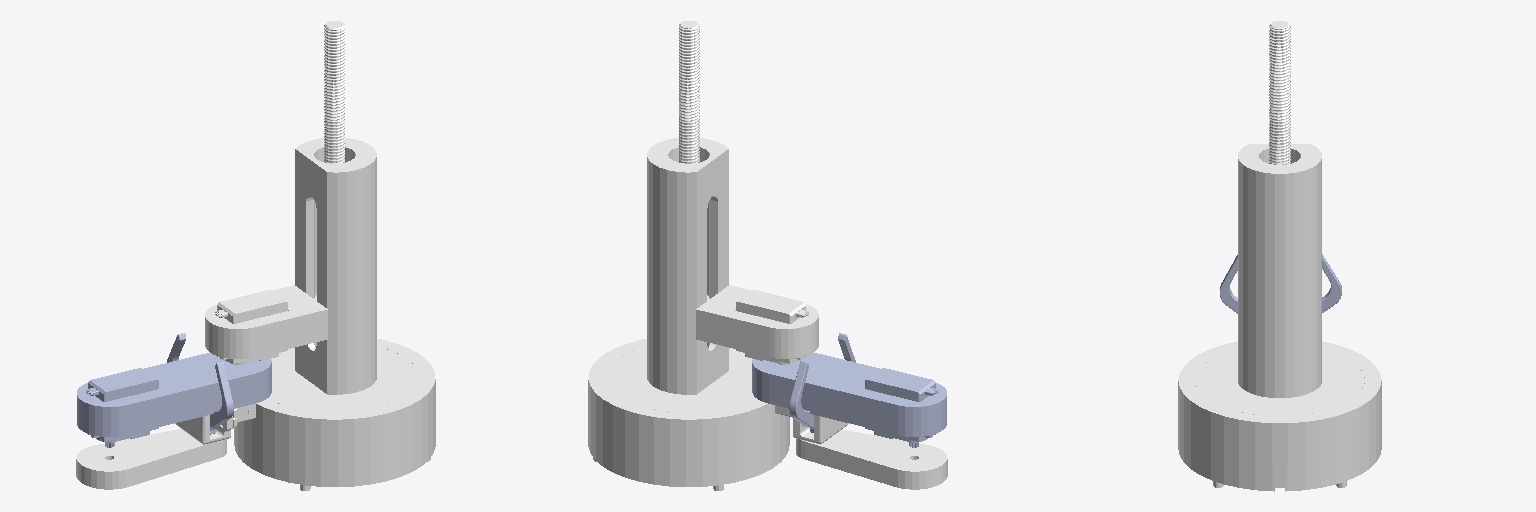
URDF robot description (grip):
<?xml version="1.0" encoding="utf-8"?>
<!-- This URDF was automatically created by SolidWorks to URDF Exporter! Originally created by [author] ([email redacted]) 
     Commit Version: 1.5.1-0-g916b5db  Build Version: 1.5.7152.31018
     For more information, please see http://wiki.ros.org/sw_urdf_exporter -->
<robot
  name="grip">
  <link
    name="base_link">
    <inertial>
      <origin
        xyz="0.0107174530796277 1.95900196880533E-09 -0.169890084160151"
        rpy="0 0 0" />
      <mass
        value="2.6392864047783" />
      <inertia
        ixx="0.00371625858177088"
        ixy="-2.40832532570739E-11"
        ixz="-3.25777157211034E-06"
        iyy="0.00370038361825484"
        iyz="-3.3397211323989E-10"
        izz="0.0057958129260762" />
    </inertial>
    <visual>
      <origin
        xyz="0 0 0"
        rpy="0 0 0" />
      <geometry>
        <mesh
          filename="package://grip/meshes/base_link.STL" />
      </geometry>
      <material
        name="">
        <color
          rgba="1 1 1 1" />
      </material>
    </visual>
    <collision>
      <origin
        xyz="0 0 0"
        rpy="0 0 0" />
      <geometry>
        <mesh
          filename="package://grip/meshes/base_link.STL" />
      </geometry>
    </collision>
  </link>
  <link
    name="prismatic_link">
    <inertial>
      <origin
        xyz="-0.0114707522711014 0.00448618201906996 0.0466874819287977"
        rpy="0 0 0" />
      <mass
        value="0.070294666005926" />
      <inertia
        ixx="2.41872603339289E-05"
        ixy="-9.99522033235708E-09"
        ixz="3.13649367191705E-06"
        iyy="2.80885088048895E-05"
        iyz="4.06403581609978E-08"
        izz="1.21919075297344E-05" />
    </inertial>
    <visual>
      <origin
        xyz="0 0 0"
        rpy="0 0 0" />
      <geometry>
        <mesh
          filename="package://grip/meshes/prismatic_link.STL" />
      </geometry>
      <material
        name="">
        <color
          rgba="1 1 1 1" />
      </material>
    </visual>
    <collision>
      <origin
        xyz="0 0 0"
        rpy="0 0 0" />
      <geometry>
        <mesh
          filename="package://grip/meshes/prismatic_link.STL" />
      </geometry>
    </collision>
  </link>
  <joint
    name="prismatic_joint"
    type="prismatic">
    <origin
      xyz="0.010622 0 -0.10655"
      rpy="1.5708 0 -1.3299" />
    <parent
      link="base_link" />
    <child
      link="prismatic_link" />
    <axis
      xyz="0 0 1" />
    <limit
      lower="0"
      upper="0"
      effort="0"
      velocity="0" />
  </joint>
  <link
    name="rotate1_link">
    <inertial>
      <origin
        xyz="0.0492358258452617 0.0168319497489269 4.58948990689459E-17"
        rpy="0 0 0" />
      <mass
        value="0.108807423102031" />
      <inertia
        ixx="1.80332600325529E-05"
        ixy="-4.18158902540611E-08"
        ixz="-6.19823582744479E-12"
        iyy="0.000112008922993144"
        iyz="4.39630745696501E-17"
        izz="0.000105065651157087" />
    </inertial>
    <visual>
      <origin
        xyz="0 0 0"
        rpy="0 0 0" />
      <geometry>
        <mesh
          filename="package://grip/meshes/rotate1_link.STL" />
      </geometry>
      <material
        name="">
        <color
          rgba="0.792156862745098 0.819607843137255 0.933333333333333 1" />
      </material>
    </visual>
    <collision>
      <origin
        xyz="0 0 0"
        rpy="0 0 0" />
      <geometry>
        <mesh
          filename="package://grip/meshes/rotate1_link.STL" />
      </geometry>
    </collision>
  </link>
  <joint
    name="rotate1_joint"
    type="revolute">
    <origin
      xyz="-0.015987 -0.0095 0.06507"
      rpy="0 -1.3299 -3.1416" />
    <parent
      link="prismatic_link" />
    <child
      link="rotate1_link" />
    <axis
      xyz="0 1 0" />
    <limit
      lower="0"
      upper="0"
      effort="0"
      velocity="0" />
  </joint>
  <link
    name="rotate2_link">
    <inertial>
      <origin
        xyz="0.000494695070061121 0.00160740403244428 -0.0424512670477549"
        rpy="0 0 0" />
      <mass
        value="0.0563149911463396" />
      <inertia
        ixx="2.75025038228695E-05"
        ixy="3.46700014770713E-08"
        ixz="-2.19086836983598E-07"
        iyy="3.08575159676648E-05"
        iyz="9.82303698088553E-08"
        izz="6.3008138166028E-06" />
    </inertial>
    <visual>
      <origin
        xyz="0 0 0"
        rpy="0 0 0" />
      <geometry>
        <mesh
          filename="package://grip/meshes/rotate2_link.STL" />
      </geometry>
      <material
        name="">
        <color
          rgba="1 1 1 1" />
      </material>
    </visual>
    <collision>
      <origin
        xyz="0 0 0"
        rpy="0 0 0" />
      <geometry>
        <mesh
          filename="package://grip/meshes/rotate2_link.STL" />
      </geometry>
    </collision>
  </link>
  <joint
    name="rotate2_joint"
    type="revolute">
    <origin
      xyz="0.09 0.0495 0"
      rpy="3.1416 -1.5708 0" />
    <parent
      link="rotate1_link" />
    <child
      link="rotate2_link" />
    <axis
      xyz="0 1 0" />
    <limit
      lower="0"
      upper="0"
      effort="0"
      velocity="0" />
  </joint>
  <link
    name="rotate3_link">
    <inertial>
      <origin
        xyz="-0.00451463619452523 0.0120910315552283 0.00250000004769779"
        rpy="0 0 0" />
      <mass
        value="0.00255992418605876" />
      <inertia
        ixx="5.12494850815877E-07"
        ixy="6.65037857609151E-08"
        ixz="4.23599489143556E-16"
        iyy="1.27933754251935E-07"
        iyz="-1.53834621949602E-16"
        izz="6.29907867097713E-07" />
    </inertial>
    <visual>
      <origin
        xyz="0 0 0"
        rpy="0 0 0" />
      <geometry>
        <mesh
          filename="package://grip/meshes/rotate3_link.STL" />
      </geometry>
      <material
        name="">
        <color
          rgba="0.792156862745098 0.819607843137255 0.933333333333333 1" />
      </material>
    </visual>
    <collision>
      <origin
        xyz="0 0 0"
        rpy="0 0 0" />
      <geometry>
        <mesh
          filename="package://grip/meshes/rotate3_link.STL" />
      </geometry>
    </collision>
  </link>
  <joint
    name="rotate3_joint"
    type="revolute">
    <origin
      xyz="0.0093336 0.0165 -0.060971"
      rpy="3.1416 0 2.6543" />
    <parent
      link="rotate2_link" />
    <child
      link="rotate3_link" />
    <axis
      xyz="0 0 1" />
    <limit
      lower="0"
      upper="0"
      effort="0"
      velocity="0" />
  </joint>
  <link
    name="rotate4_link">
    <inertial>
      <origin
        xyz="-0.0011767487651098 0.0135338945493889 0.00249999780162471"
        rpy="0 0 0" />
      <mass
        value="0.00265621110159474" />
      <inertia
        ixx="5.52061946815856E-07"
        ixy="-3.97418889132207E-08"
        ixz="-2.64831638629068E-14"
        iyy="1.29055482093686E-07"
        iyz="-4.99182945889298E-14"
        izz="6.70195998052915E-07" />
    </inertial>
    <visual>
      <origin
        xyz="0 0 0"
        rpy="0 0 0" />
      <geometry>
        <mesh
          filename="package://grip/meshes/rotate4_link.STL" />
      </geometry>
      <material
        name="">
        <color
          rgba="0.792156862745098 0.819607843137255 0.933333333333333 1" />
      </material>
    </visual>
    <collision>
      <origin
        xyz="0 0 0"
        rpy="0 0 0" />
      <geometry>
        <mesh
          filename="package://grip/meshes/rotate4_link.STL" />
      </geometry>
    </collision>
  </link>
  <joint
    name="rotate4_joint"
    type="revolute">
    <origin
      xyz="-0.0090778 0.01666 -0.065971"
      rpy="0 0 0.77025" />
    <parent
      link="rotate2_link" />
    <child
      link="rotate4_link" />
    <axis
      xyz="0 0 1" />
    <limit
      lower="0"
      upper="0"
      effort="0"
      velocity="0" />
  </joint>
</robot>

--- Render facts (derived) ---
3 views of the same robot in one strip: view 1: azimuth 30°, elevation 25°; view 2: azimuth 150°, elevation 25°; view 3: azimuth 270°, elevation 25° (orthographic).
Robot: grip — 6 links, 5 joints (4 revolute, 1 prismatic); root link base_link; default pose: all joints at 0.
Visible links, largest first — view 1: base_link, rotate1_link, prismatic_link, rotate2_link, rotate3_link; view 2: base_link, rotate1_link, prismatic_link, rotate2_link, rotate4_link; view 3: base_link, rotate4_link, rotate3_link.
Boxes of the visible links, x1,y1,x2,y2 form: base_link: (234,21,435,490); rotate1_link: (77,353,271,447); prismatic_link: (205,285,327,364); rotate2_link: (76,404,255,489); rotate3_link: (210,362,233,434); base_link: (588,20,789,490); rotate1_link: (752,353,946,447); prismatic_link: (696,285,818,364); rotate2_link: (775,405,947,489); rotate4_link: (789,361,813,432); base_link: (1178,20,1381,491); rotate4_link: (1322,254,1341,312); rotate3_link: (1220,255,1237,313).
Size in the robot's own frame: 0.2377 by 0.1216 by 0.29 metres.
6 mesh visuals loaded from 6 distinct referenced files (6 binary STL).